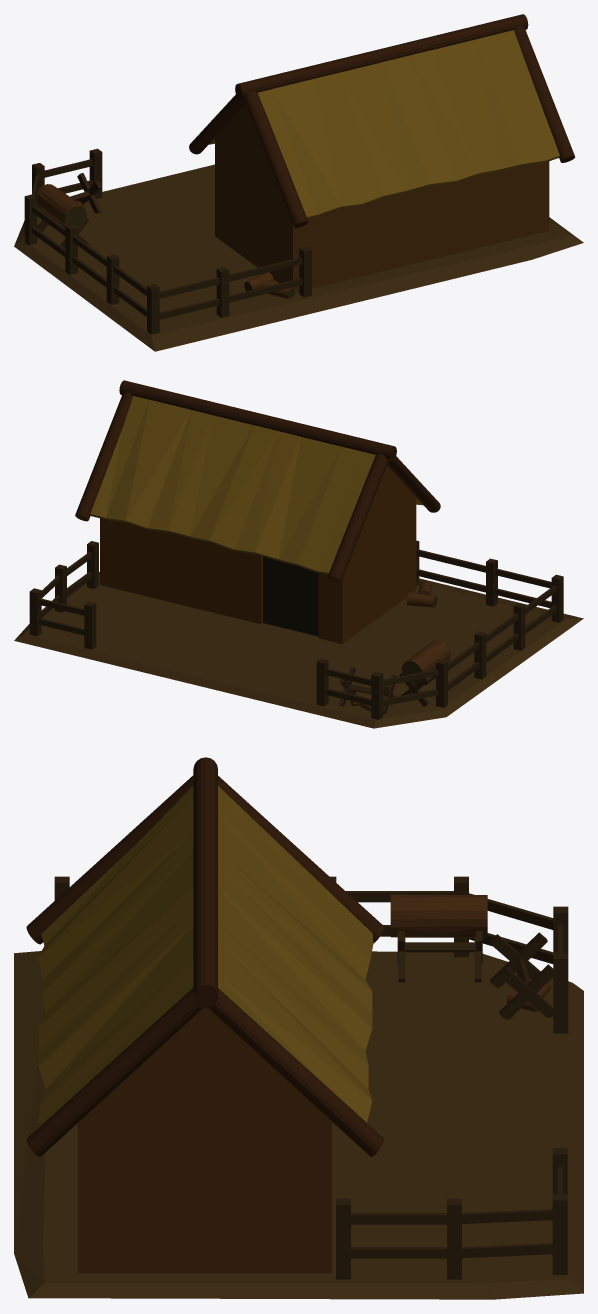
The model's file is Sawmill.obj.
3 views of the same model, one above another, from view 1: azimuth 30°, elevation 25°; view 2: azimuth 150°, elevation 25°; view 3: azimuth 270°, elevation 25° (orthographic). The views are drawn at different scales.
Visible parts, largest first — view 1: Plane.003_Plane.007, Cube.001_Cube.020, Cube.027_Cube.033, Cube.002, Cylinder.007_Cylinder.009, LogStockpile_Cylinder.002, Cylinder.008_Cylinder.019, Cube.017_Cube.035; view 2: Plane.003_Plane.007, Cube.001_Cube.020, Cube.027_Cube.033, Cube.002, Cylinder.007_Cylinder.009, Cube.026_Cube.032, LogStockpile_Cylinder.002, Cube.017_Cube.035, Cylinder.008_Cylinder.019; view 3: Cube.001_Cube.020, Plane.003_Plane.007, Cube.027_Cube.033, Cube.002, Cylinder.007_Cylinder.009, LogStockpile_Cylinder.002, Cube.017_Cube.035, Cube.018_Cube.010.
Boxes of the visible parts, x1,y1,x2,y2 form: Plane.003_Plane.007: [189, 26, 574, 227]; Cube.001_Cube.020: [14, 164, 583, 351]; Cube.027_Cube.033: [215, 104, 549, 292]; Cube.002: [24, 148, 311, 334]; Cylinder.007_Cylinder.009: [235, 14, 528, 99]; LogStockpile_Cylinder.002: [35, 184, 87, 228]; Cylinder.008_Cylinder.019: [244, 272, 294, 298]; Cube.017_Cube.035: [40, 173, 101, 213]; Plane.003_Plane.007: [75, 392, 440, 582]; Cube.001_Cube.020: [14, 572, 583, 728]; Cube.027_Cube.033: [100, 465, 416, 644]; Cube.002: [29, 540, 563, 719]; Cylinder.007_Cylinder.009: [119, 380, 396, 460]; Cube.026_Cube.032: [263, 556, 318, 636]; LogStockpile_Cylinder.002: [401, 640, 450, 683]; Cube.017_Cube.035: [339, 667, 396, 713]; Cylinder.008_Cylinder.019: [407, 580, 437, 607]; Cube.001_Cube.020: [14, 951, 583, 1299]; Plane.003_Plane.007: [26, 775, 383, 1156]; Cube.027_Cube.033: [77, 1008, 331, 1273]; Cube.002: [54, 876, 568, 1279]; Cylinder.007_Cylinder.009: [193, 757, 217, 1008]; LogStockpile_Cylinder.002: [390, 894, 487, 937]; Cube.017_Cube.035: [490, 932, 553, 1019]; Cube.018_Cube.010: [397, 931, 482, 982].
Size of the model in its own units: 3.06 by 1.29 by 2.13.
